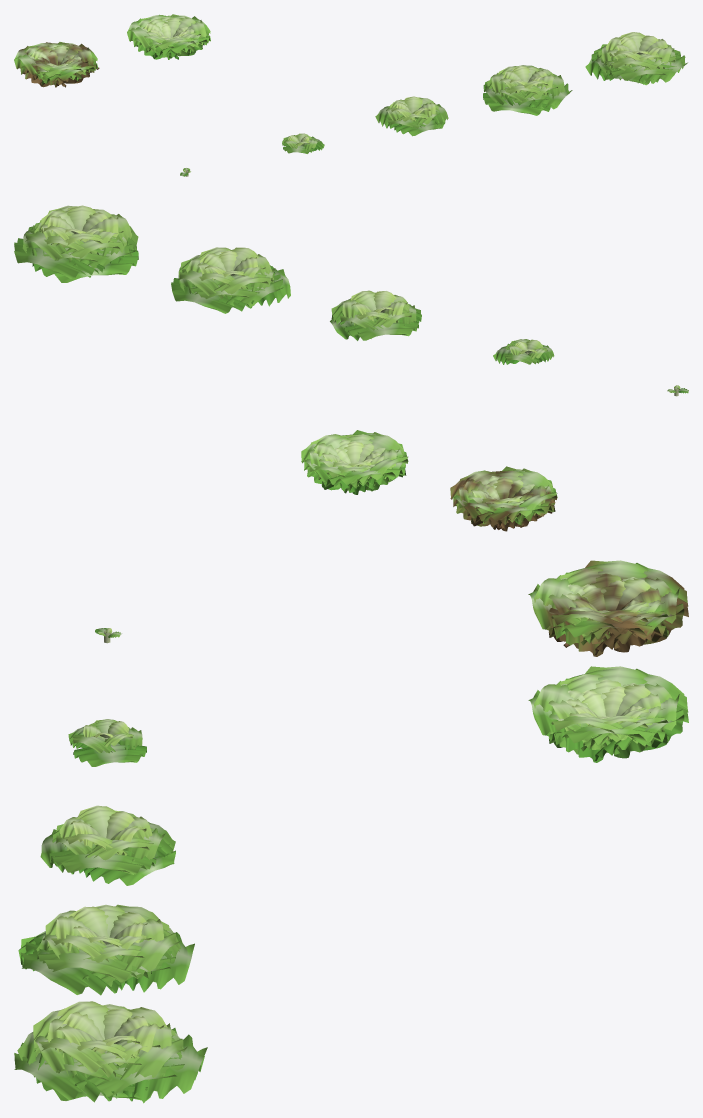
The model's file is fieldworks_lettuce.glb.
The picture shows the model from 3 angles, top to bottom: view 1: azimuth 30°, elevation 25°; view 2: azimuth 150°, elevation 25°; view 3: azimuth 270°, elevation 25°; orthographic projection. The views are drawn at different scales.
Visible parts, largest first — view 1: lettuce_stage5_ready, lettuce_stage4_heading, lettuce_item_dirty, lettuce_item_washed, lettuce_stage3_rosette, lettuce_stage2_young; view 2: lettuce_stage5_ready, lettuce_stage4_heading, lettuce_item_dirty, lettuce_item_washed, lettuce_stage3_rosette, lettuce_stage2_young; view 3: lettuce_stage5_ready, lettuce_stage4_heading, lettuce_item_dirty, lettuce_item_washed, lettuce_stage3_rosette, lettuce_stage2_young.
Boxes of the visible parts, left/top/right/bottom form: lettuce_stage5_ready: left=585, top=32, right=687, bottom=85; lettuce_stage4_heading: left=483, top=65, right=572, bottom=115; lettuce_item_dirty: left=14, top=42, right=99, bottom=87; lettuce_item_washed: left=127, top=14, right=210, bottom=59; lettuce_stage3_rosette: left=375, top=96, right=448, bottom=136; lettuce_stage2_young: left=282, top=133, right=324, bottom=153; lettuce_stage5_ready: left=14, top=205, right=138, bottom=282; lettuce_stage4_heading: left=171, top=247, right=290, bottom=313; lettuce_item_dirty: left=450, top=466, right=557, bottom=531; lettuce_item_washed: left=301, top=430, right=408, bottom=494; lettuce_stage3_rosette: left=330, top=290, right=421, bottom=340; lettuce_stage2_young: left=493, top=339, right=554, bottom=364; lettuce_stage5_ready: left=14, top=1001, right=207, bottom=1103; lettuce_stage4_heading: left=18, top=904, right=194, bottom=995; lettuce_item_dirty: left=528, top=560, right=688, bottom=656; lettuce_item_washed: left=528, top=666, right=688, bottom=762; lettuce_stage3_rosette: left=40, top=805, right=175, bottom=885; lettuce_stage2_young: left=68, top=719, right=146, bottom=766.
Bounding box in the file's own units: 2.34 × 0.132 × 1.35.
